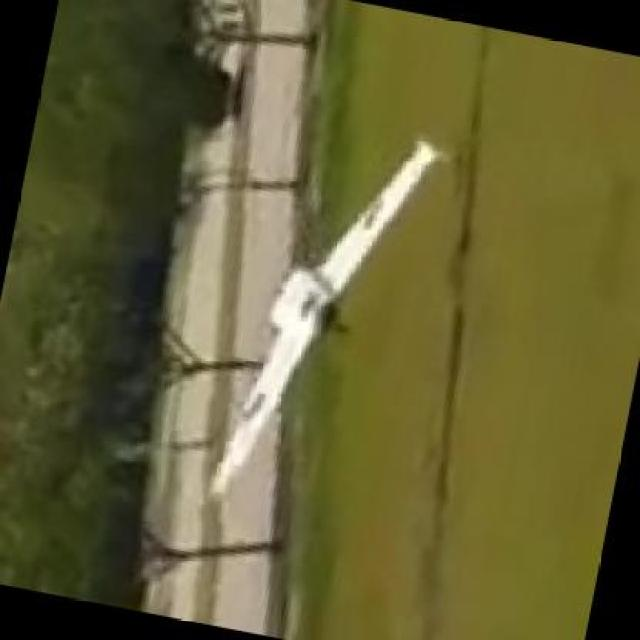iha: (203, 135, 438, 510)
